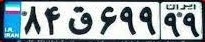character: (64, 3, 95, 36), (95, 4, 119, 37), (42, 3, 63, 37), (21, 5, 43, 36), (119, 5, 139, 39), (139, 4, 159, 38), (160, 11, 183, 40), (181, 11, 202, 39)
